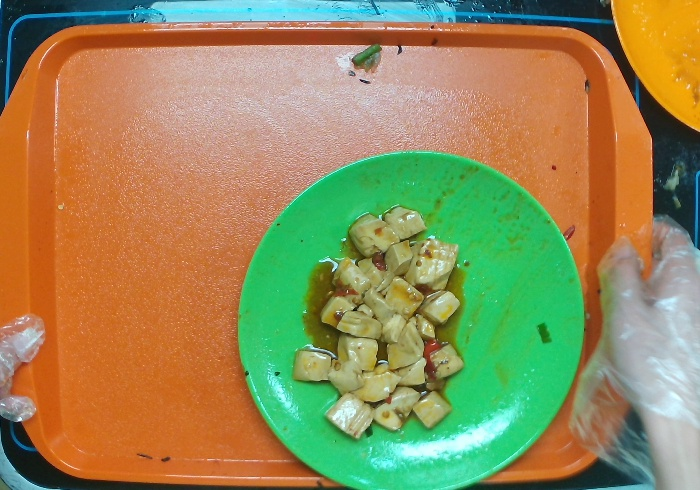HZYJPL-Lv_Se_Yuan_Pan: (235, 146, 585, 490)
